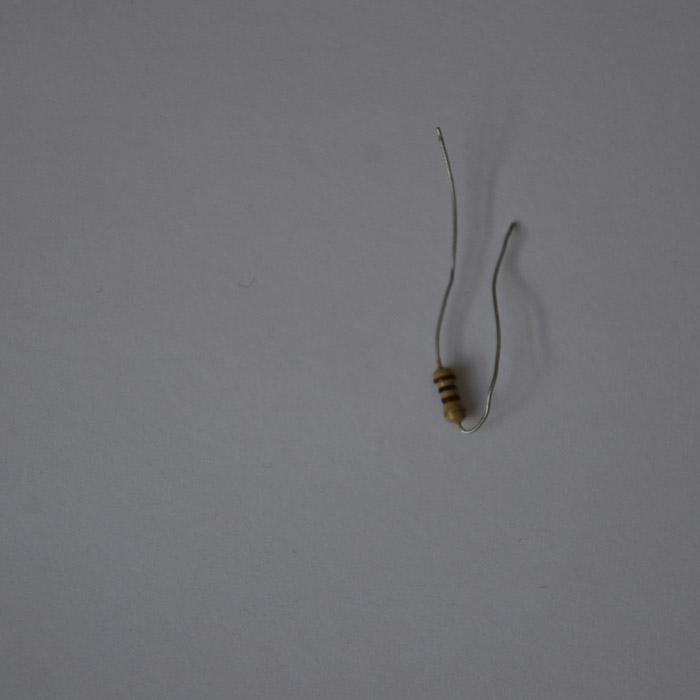resistor: (434, 365, 466, 425)
